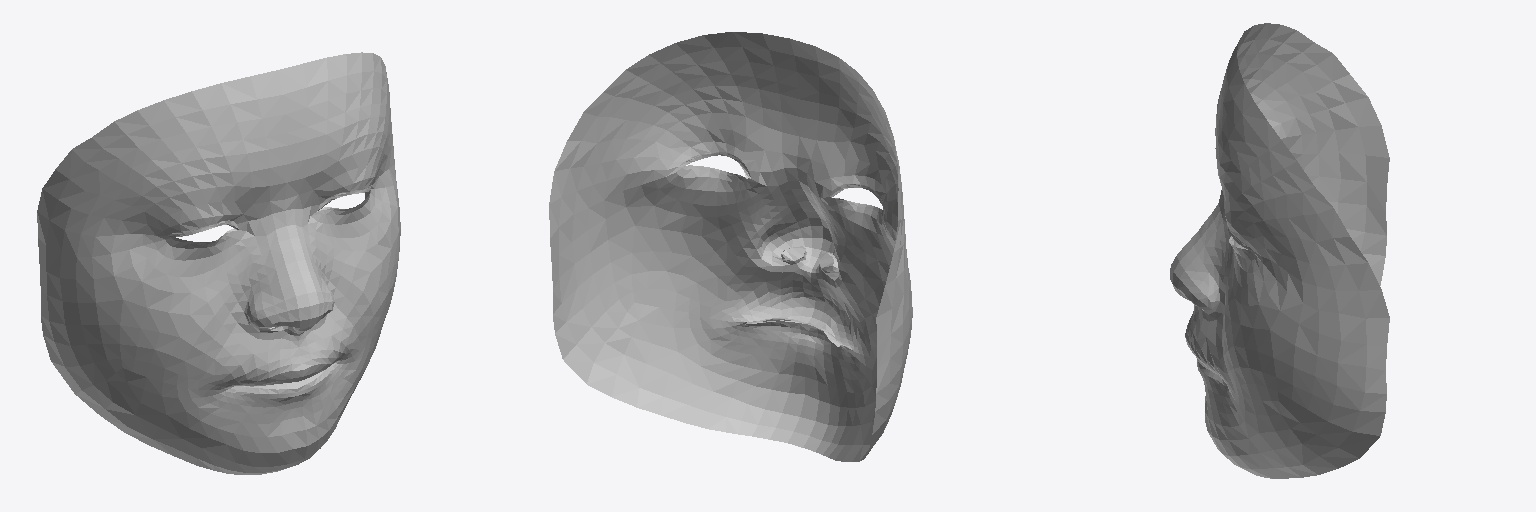
The model's file is mouthRollLower.obj.
The picture shows the model from 3 angles: view 1: azimuth 30°, elevation 25°; view 2: azimuth 150°, elevation 25°; view 3: azimuth 270°, elevation 25°; orthographic projection.
Parts seen in each view (by area): view 1: default; view 2: default; view 3: default.
Part boxes in pixels (x1,y1,x2,y2): default: (37, 52, 400, 474); default: (549, 32, 912, 461); default: (1170, 23, 1389, 478).
Bounding box in the file's own units: 0.1624 × 0.1847 × 0.0913.